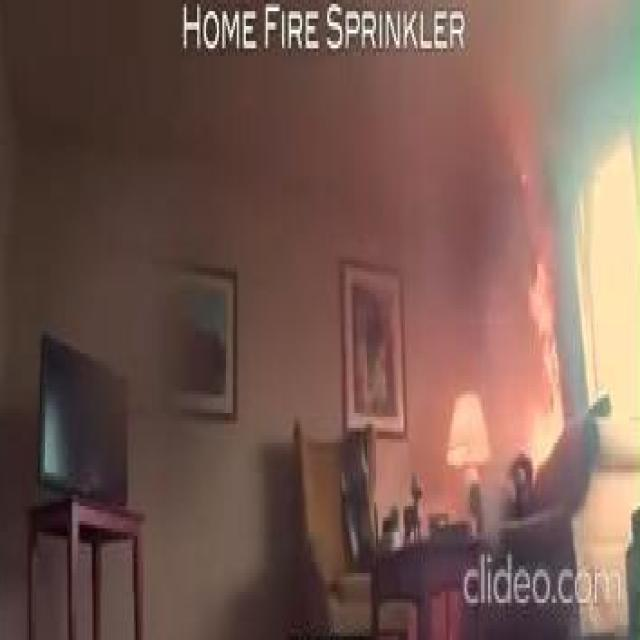smoke: (526, 256, 566, 462)
